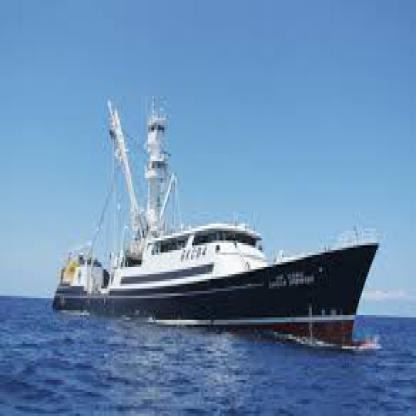fish-b: (53, 89, 390, 356)
